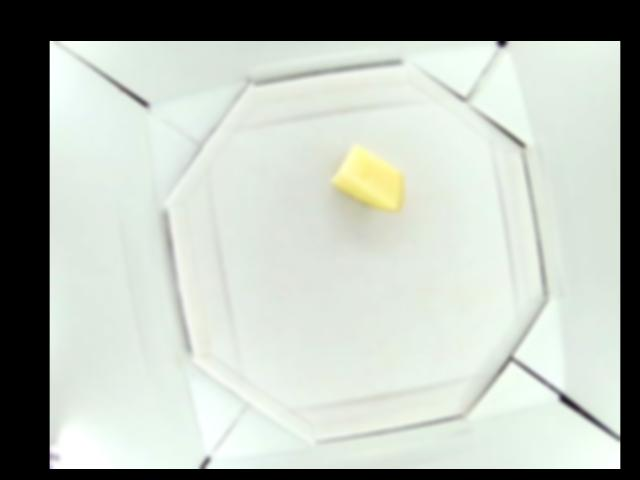Potato: (333, 147, 408, 212)
